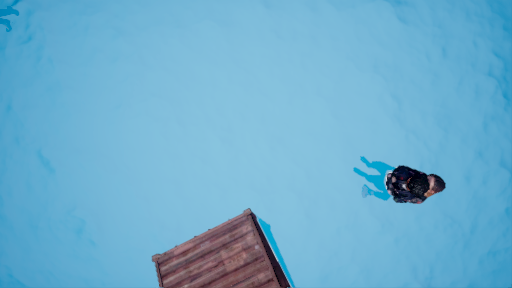person: (352, 157, 448, 210)
